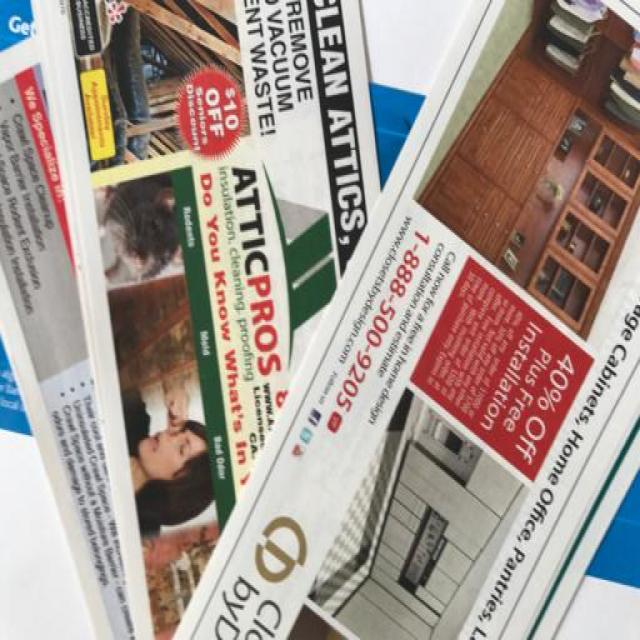paper: (6, 2, 636, 640)
